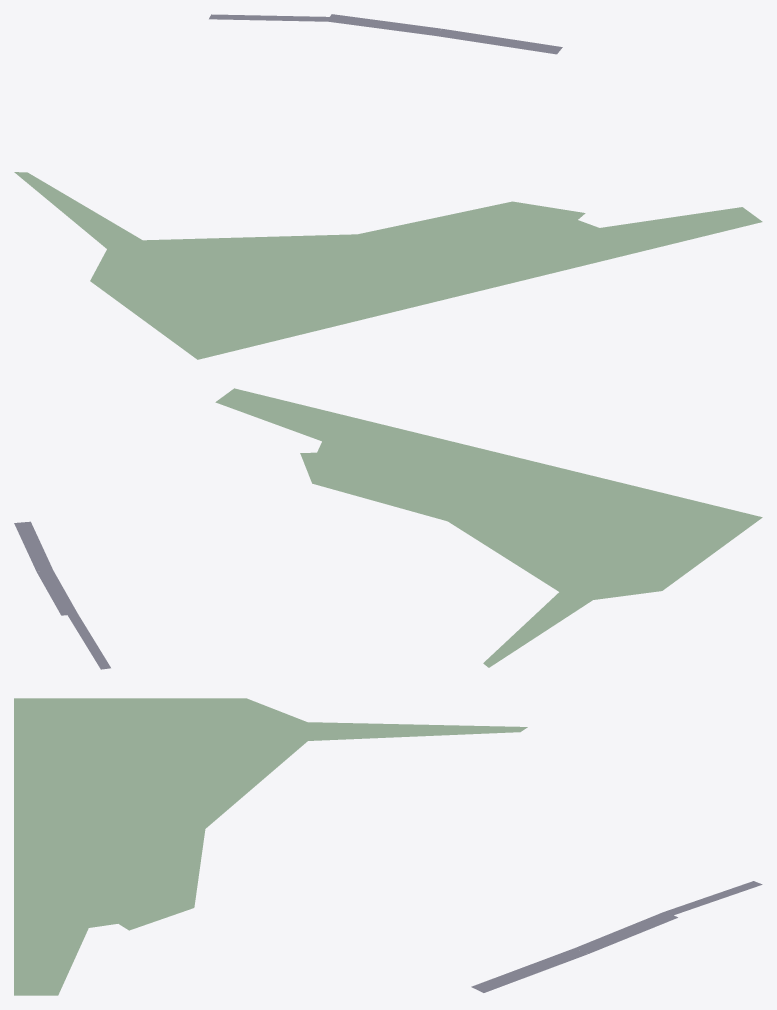
The model's file is 137_80_mid.glb.
3 renders of one model, top to bottom at view 1: azimuth 30°, elevation 25°; view 2: azimuth 150°, elevation 25°; view 3: azimuth 270°, elevation 25°, orthographic. The views are drawn at different scales.
Size of the model in its own units: 516 by 10.49 by 532.
